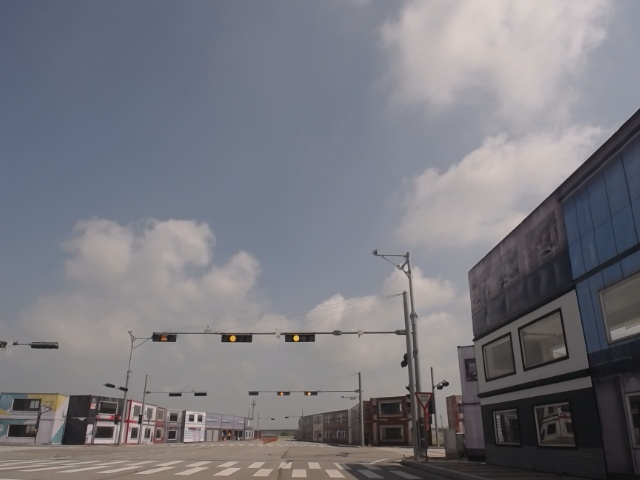orange_4: (284, 331, 315, 343), (223, 335, 253, 342)
